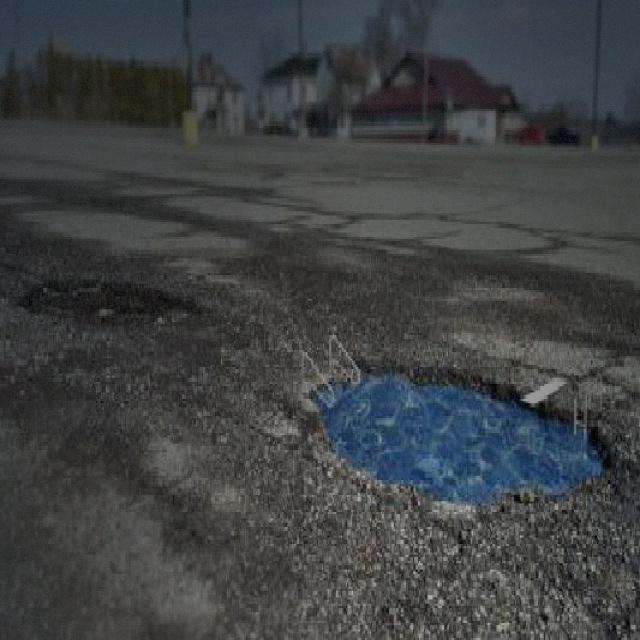pothole: (305, 354, 612, 501), (18, 271, 203, 326)
